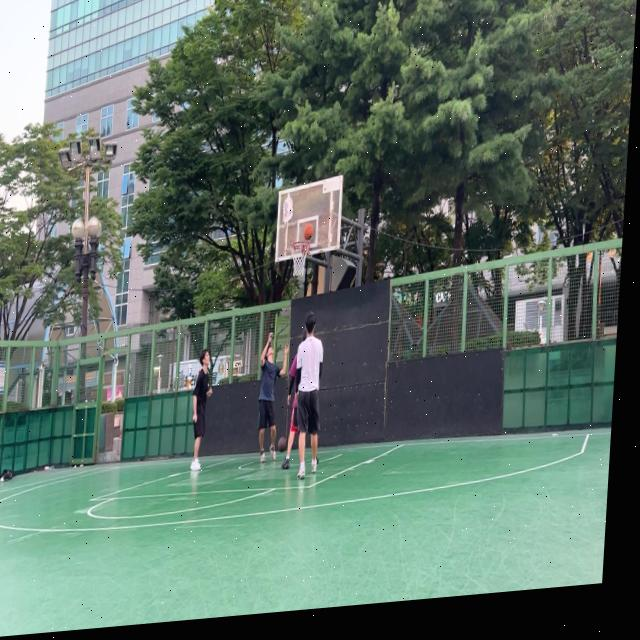basketball: (303, 223, 314, 241)
hoop: (289, 240, 310, 276)
